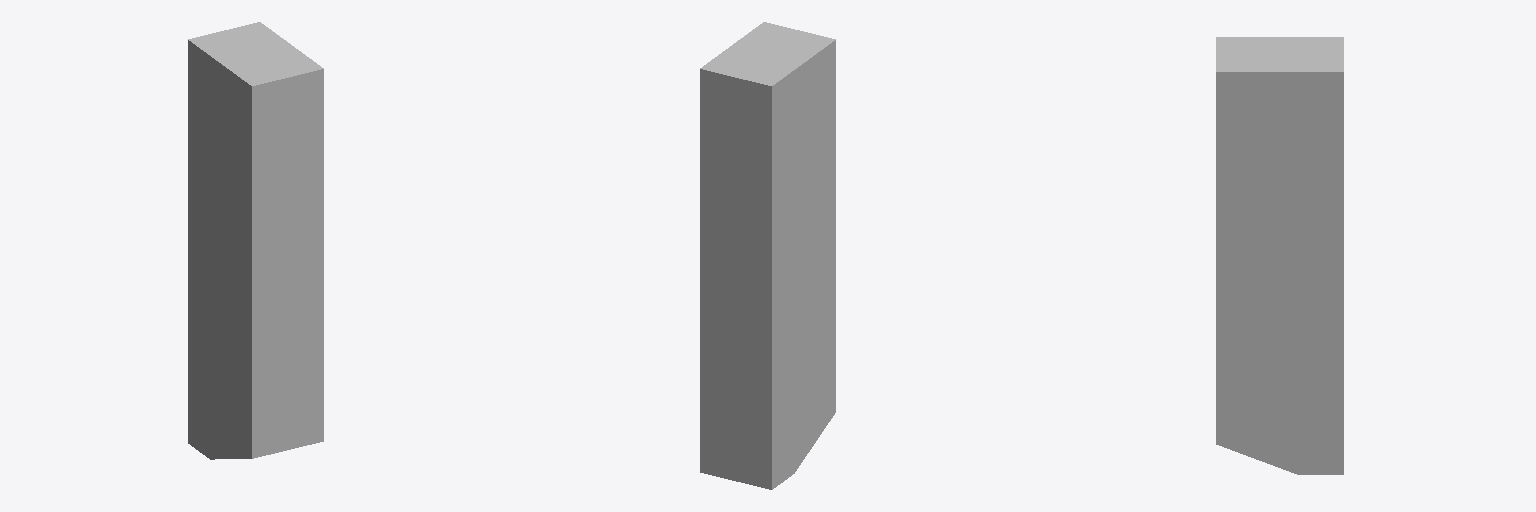
File: Key_SharpPowder.obj
The picture shows the model from 3 angles: view 1: azimuth 30°, elevation 25°; view 2: azimuth 150°, elevation 25°; view 3: azimuth 270°, elevation 25°; orthographic projection.
Visible parts, largest first — view 1: Body1; view 2: Body1; view 3: Body1.
Part boxes in pixels (bbox=[...]): Body1: bbox=[188, 22, 323, 459]; Body1: bbox=[700, 22, 835, 489]; Body1: bbox=[1216, 37, 1343, 474].
Bounding box in the file's own units: 13 × 69.37 × 20.